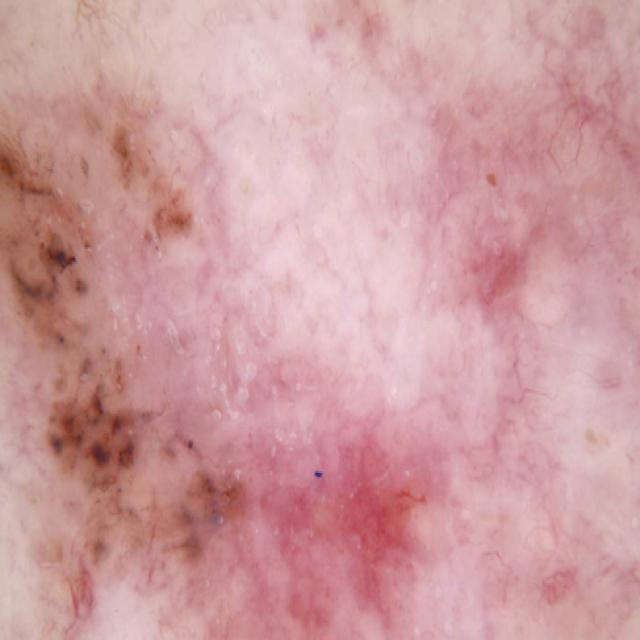Carcinoma: (0, 84, 196, 488), (377, 121, 640, 418), (231, 442, 456, 640)
